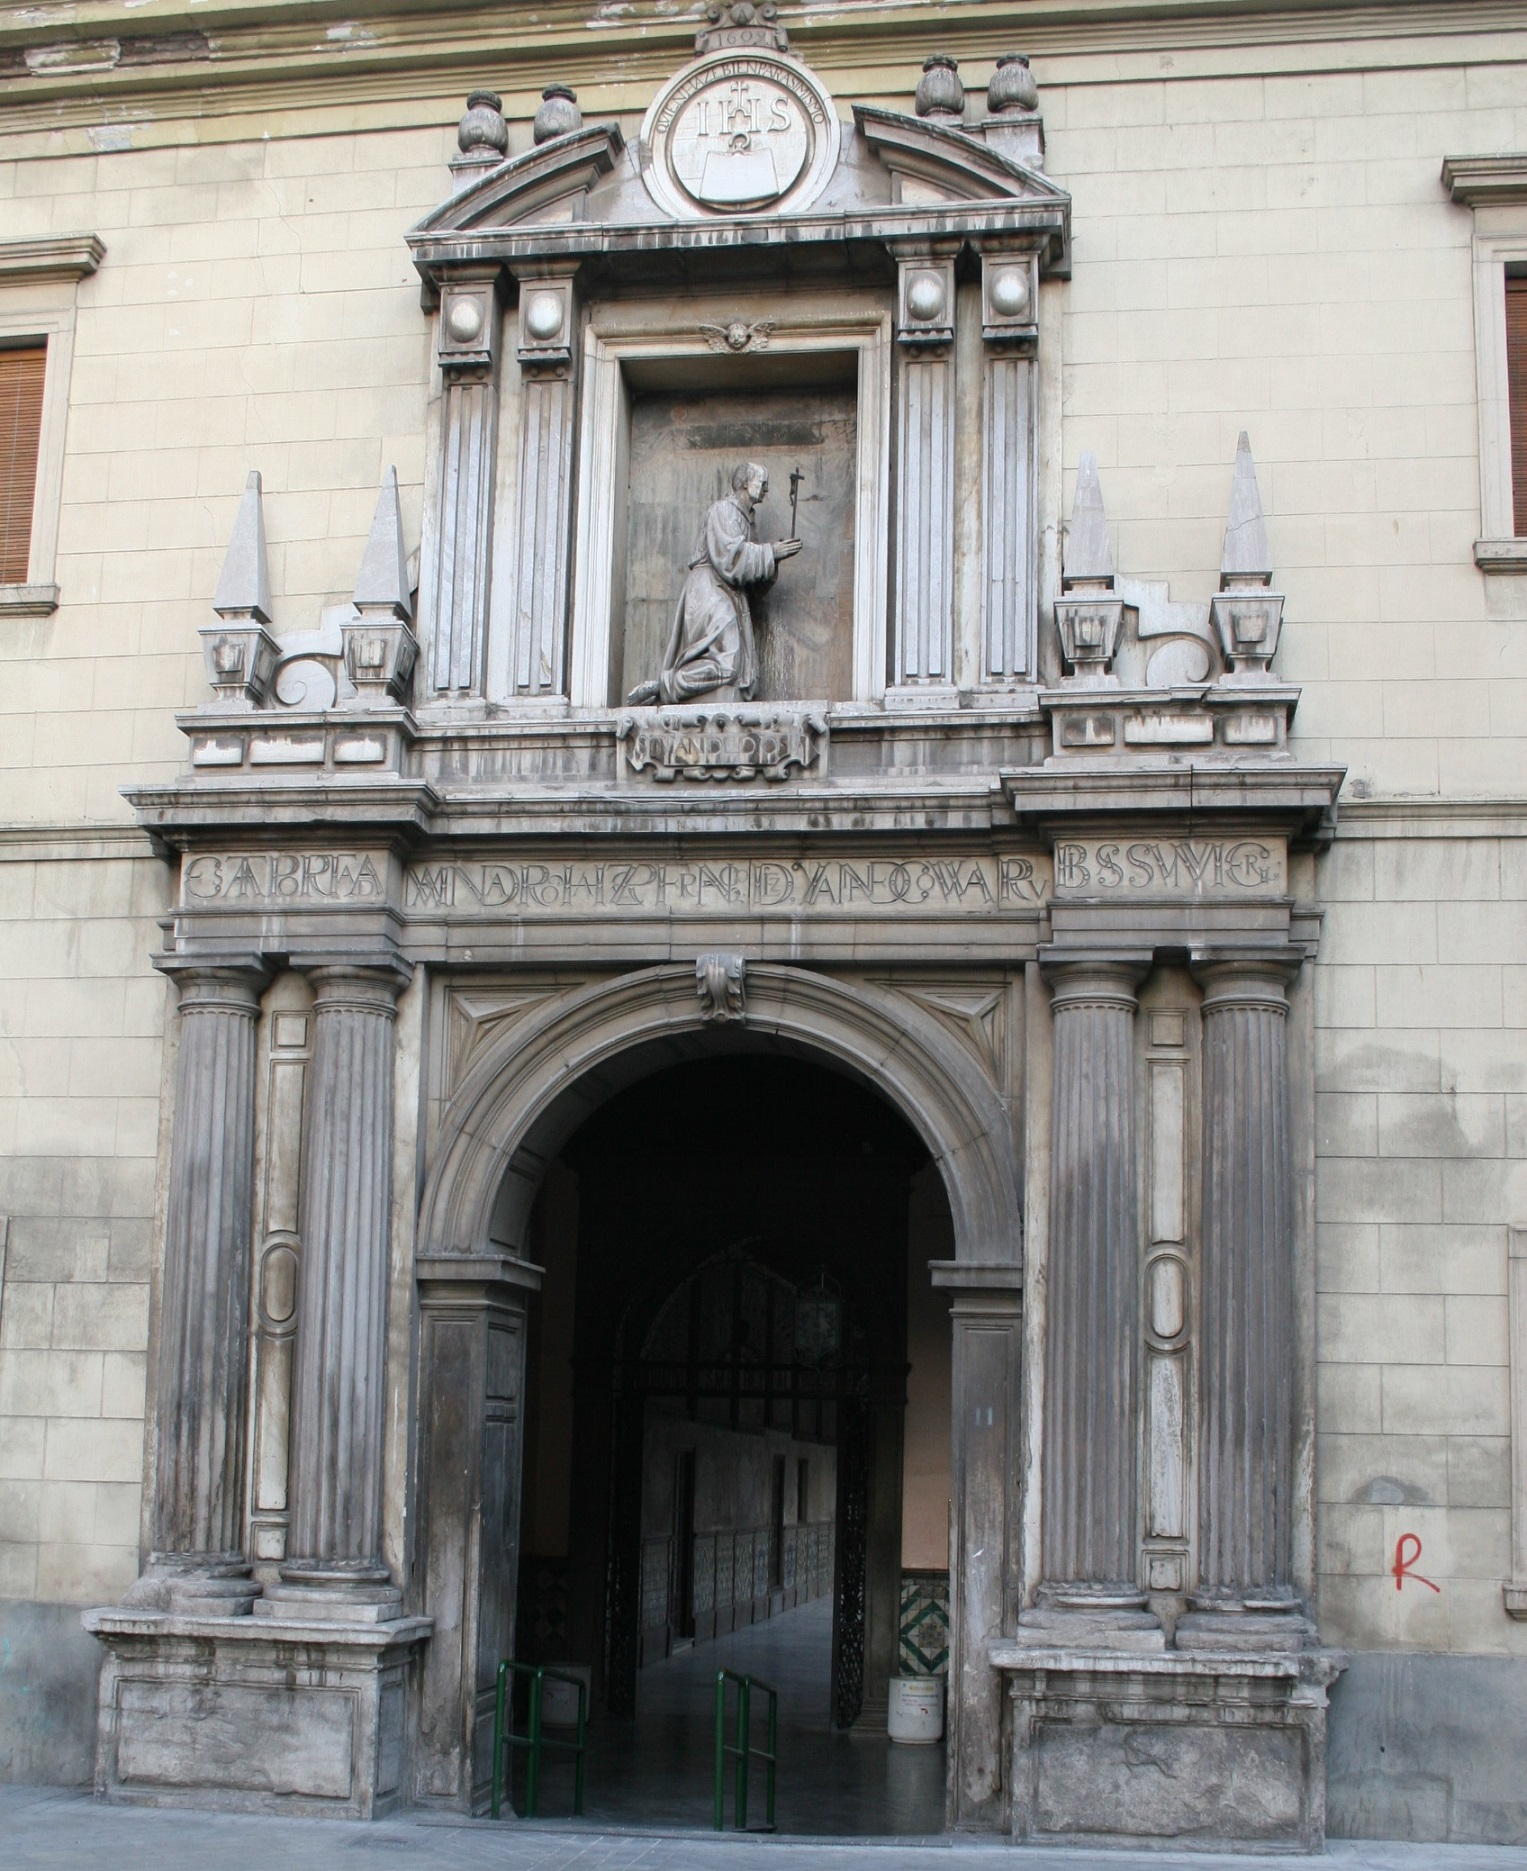arco-medio-punto: (461, 1009, 982, 1343)
fronton-partido: (402, 95, 1083, 269)
vano-adintelado: (565, 306, 893, 716)
